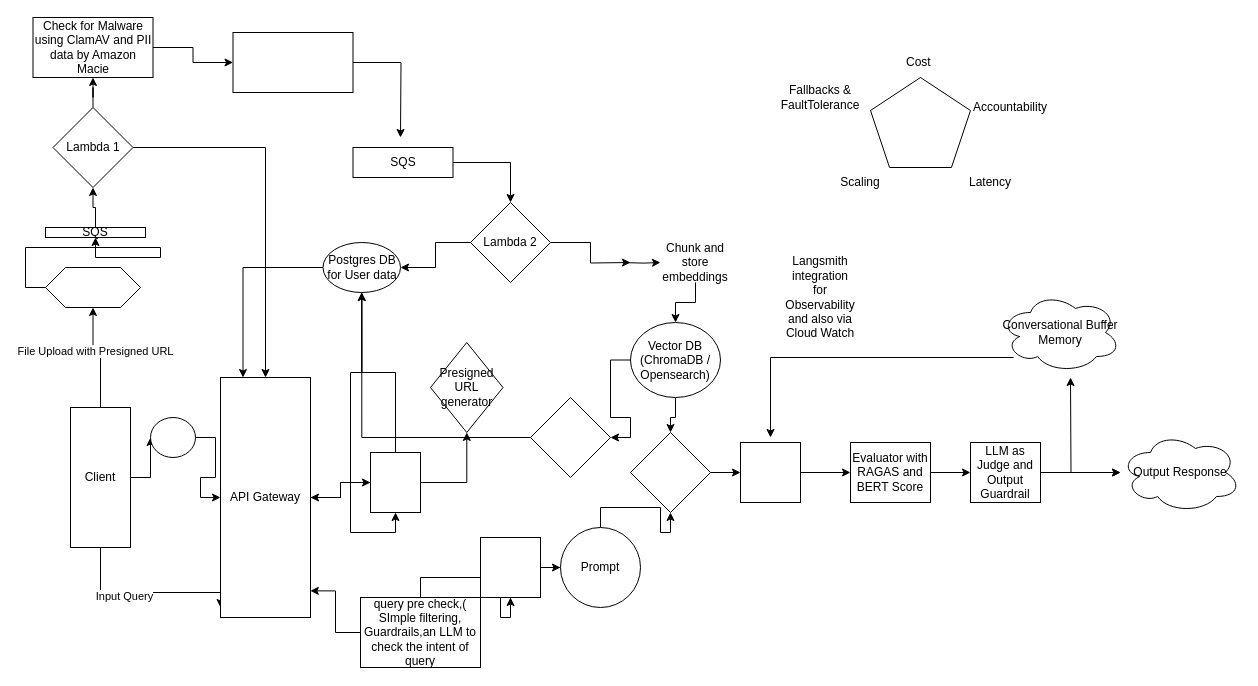
Some shapes in this 1258 by 686 pixel diagram are drawn without their labels. Each missing label, with the box of its shape:
CDN: (150, 416, 196, 458)
Lambda 3: (530, 396, 610, 478)
LLM: (740, 442, 800, 502)
Primary S3: (232, 32, 353, 92)
Reframing the query: (480, 536, 540, 598)
Retriever: (630, 432, 710, 512)
Temporary S3: (44, 266, 140, 308)
User Auth: (370, 452, 420, 512)
